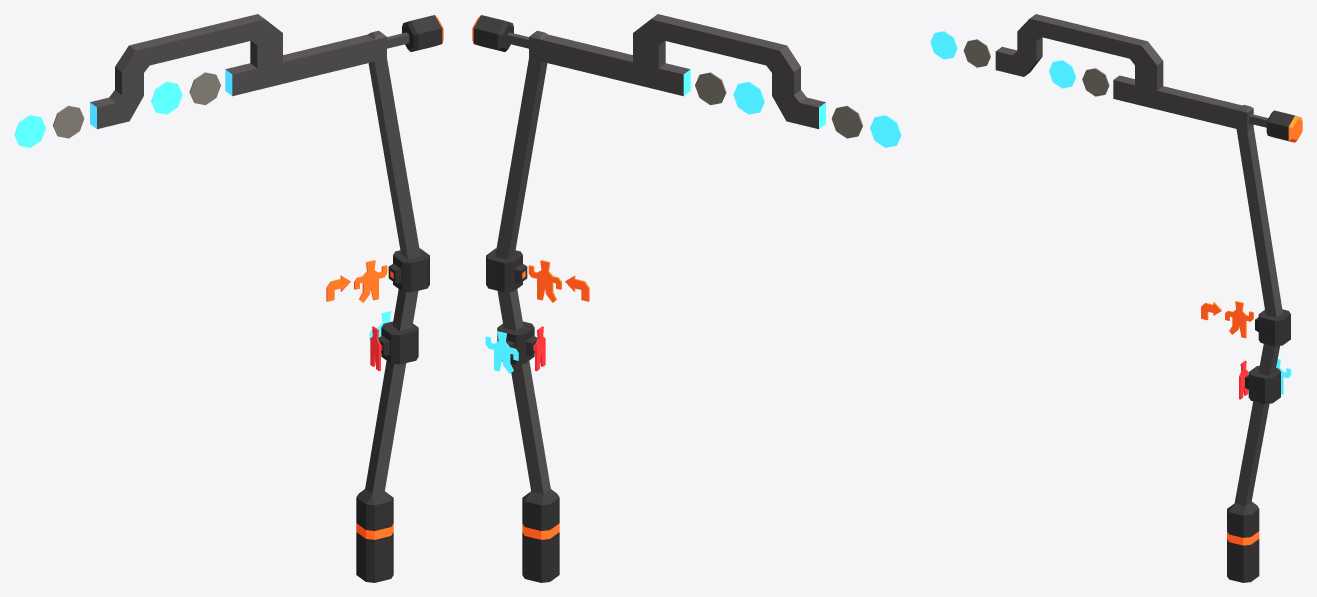
Rendered from scifi_scifi-traffic-lights-long-corner-a.fbx.
3 views of the same model, side by side, from view 1: azimuth 30°, elevation 25°; view 2: azimuth 150°, elevation 25°; view 3: azimuth 330°, elevation 25° (orthographic). The views are drawn at different scales.
Parts seen in each view (by area): view 1: scifi_scifi_traffic_lights_long_corner_a; view 2: scifi_scifi_traffic_lights_long_corner_a; view 3: scifi_scifi_traffic_lights_long_corner_a.
Part boxes in pixels (x1,y1,x2,y2): scifi_scifi_traffic_lights_long_corner_a: (14,14,443,582); scifi_scifi_traffic_lights_long_corner_a: (472,14,901,582); scifi_scifi_traffic_lights_long_corner_a: (930,14,1302,582).
Bounding box in the file's own units: 151 × 200 × 13.66.
